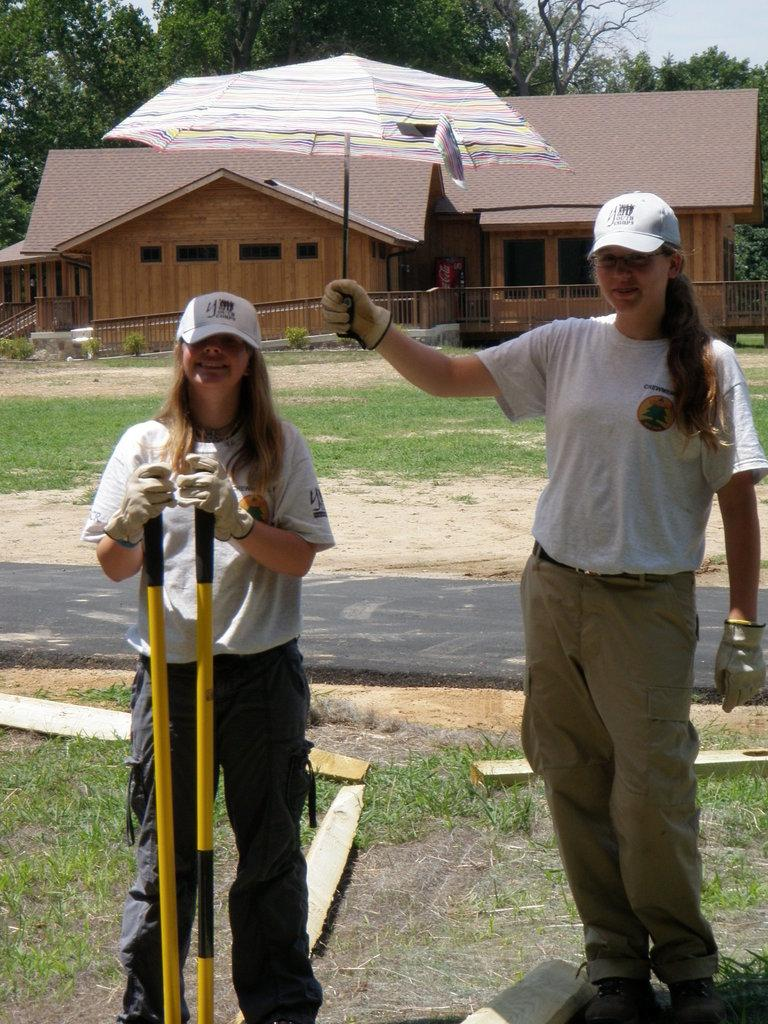no_helmet: (518, 173, 618, 264), (212, 275, 302, 366)
none: (420, 307, 672, 585), (158, 418, 355, 656)
